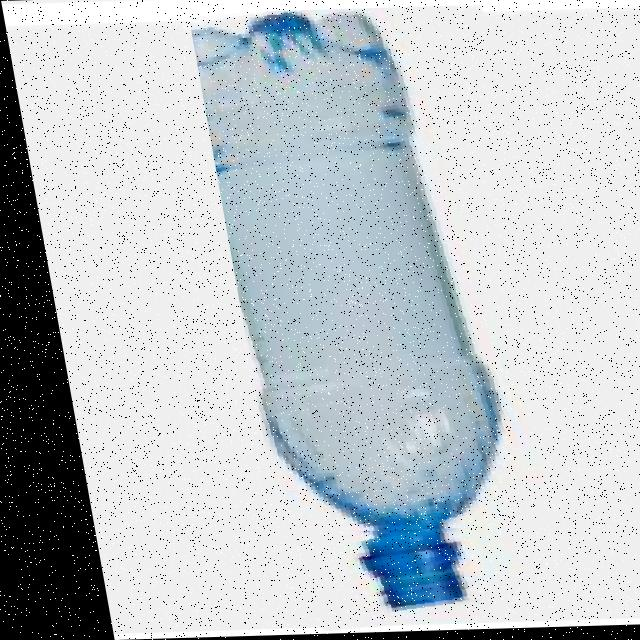plasticbottle: (187, 6, 591, 628)
plasticbottlecap: (321, 529, 490, 620)
